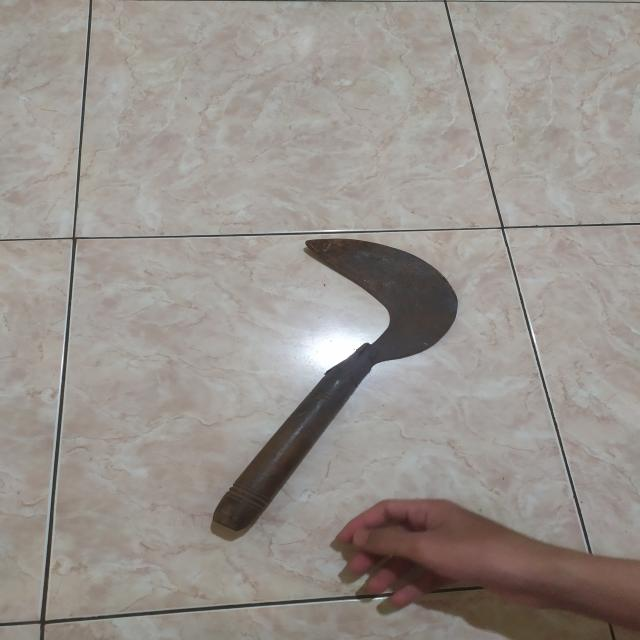Celurit: (216, 238, 464, 540)
